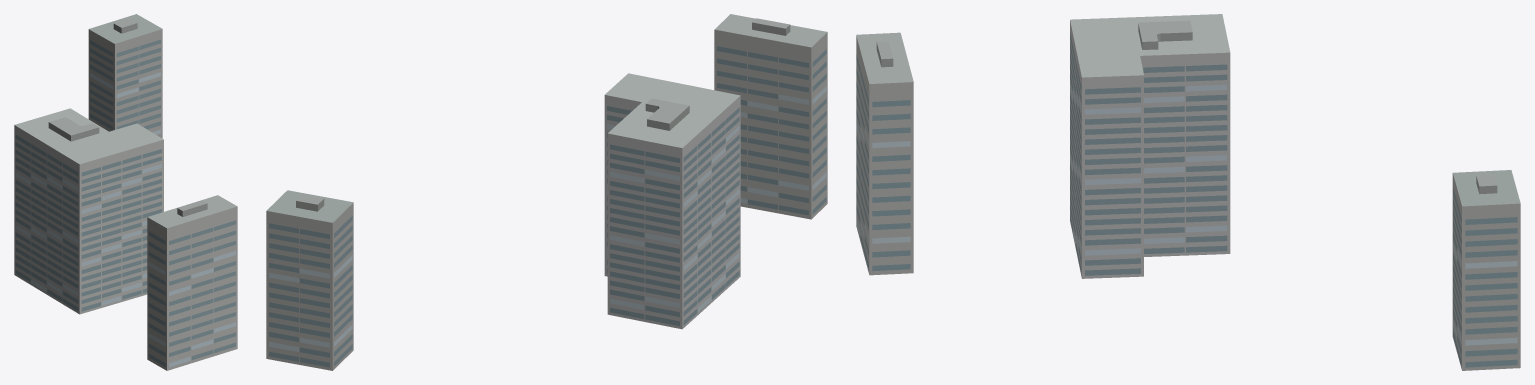
Rendered from apt-a10024034.glb.
3 renders of one model, left to right at view 1: azimuth 30°, elevation 25°; view 2: azimuth 150°, elevation 25°; view 3: azimuth 270°, elevation 25°, orthographic. The views are drawn at different scales.
Parts seen in each view (by area): view 1: apt-a10024034; view 2: apt-a10024034; view 3: apt-a10024034.
Part boxes in pixels (x1,y1,x2,y2): apt-a10024034: (14,14,237,370); apt-a10024034: (266,14,827,370); apt-a10024034: (856,14,1520,370).
Size of the model in its own units: 98.82 by 62 by 178.
